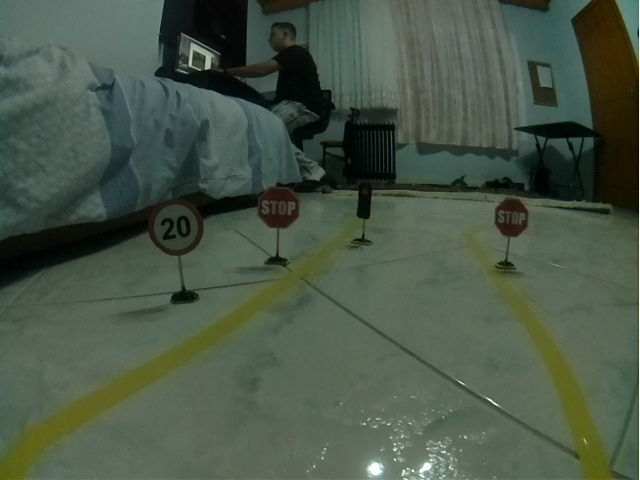Red Traffic Light: (356, 182, 372, 219)
Speed Limit 20: (148, 199, 203, 256)
Stop: (257, 186, 300, 229), (494, 198, 529, 238)
